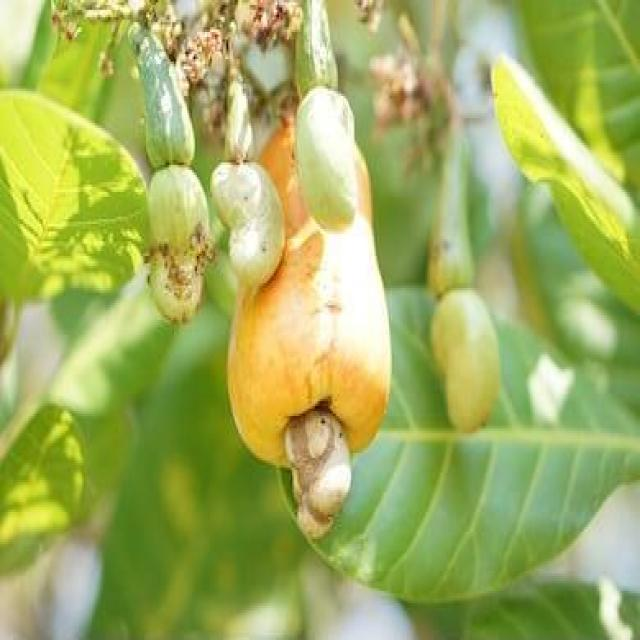cashew: (268, 406, 372, 543), (302, 72, 390, 228), (210, 140, 304, 286), (144, 165, 237, 296)
